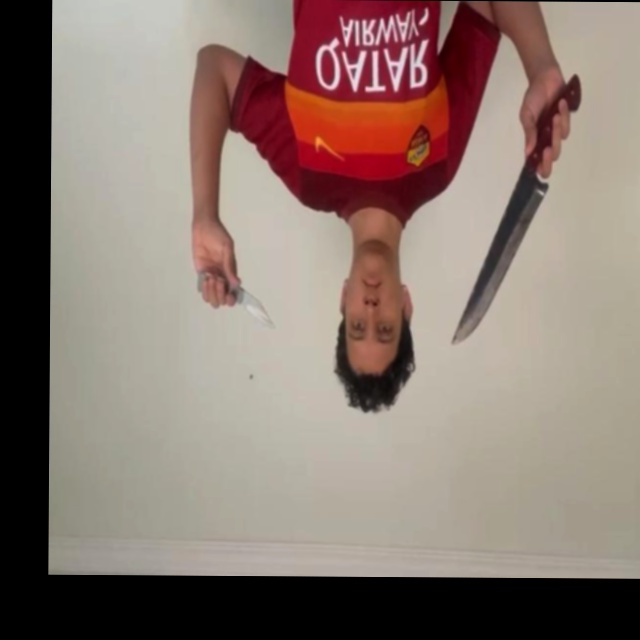Sharp-Object: (451, 179, 547, 347), (239, 288, 275, 332)
